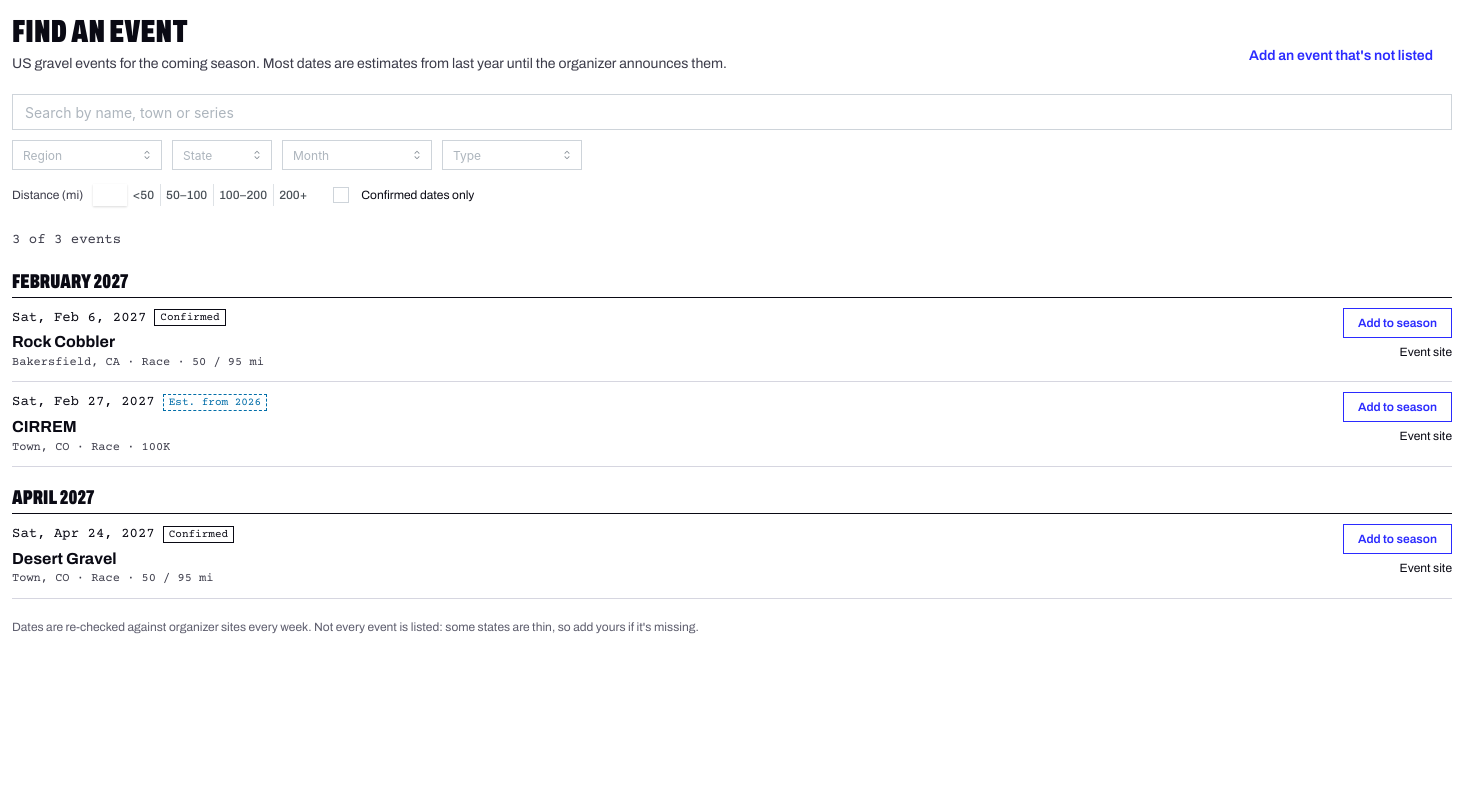
Test case: EventsTab › filters by search text
The image size is (1464, 810).
Expected: the text "Rock Cobbler" is shown, x1=12 y1=333 x2=115 y2=350
Type "bakersfield" into the field named "Search events" at (732, 112), box x1=12 y1=94 x2=1452 y2=130
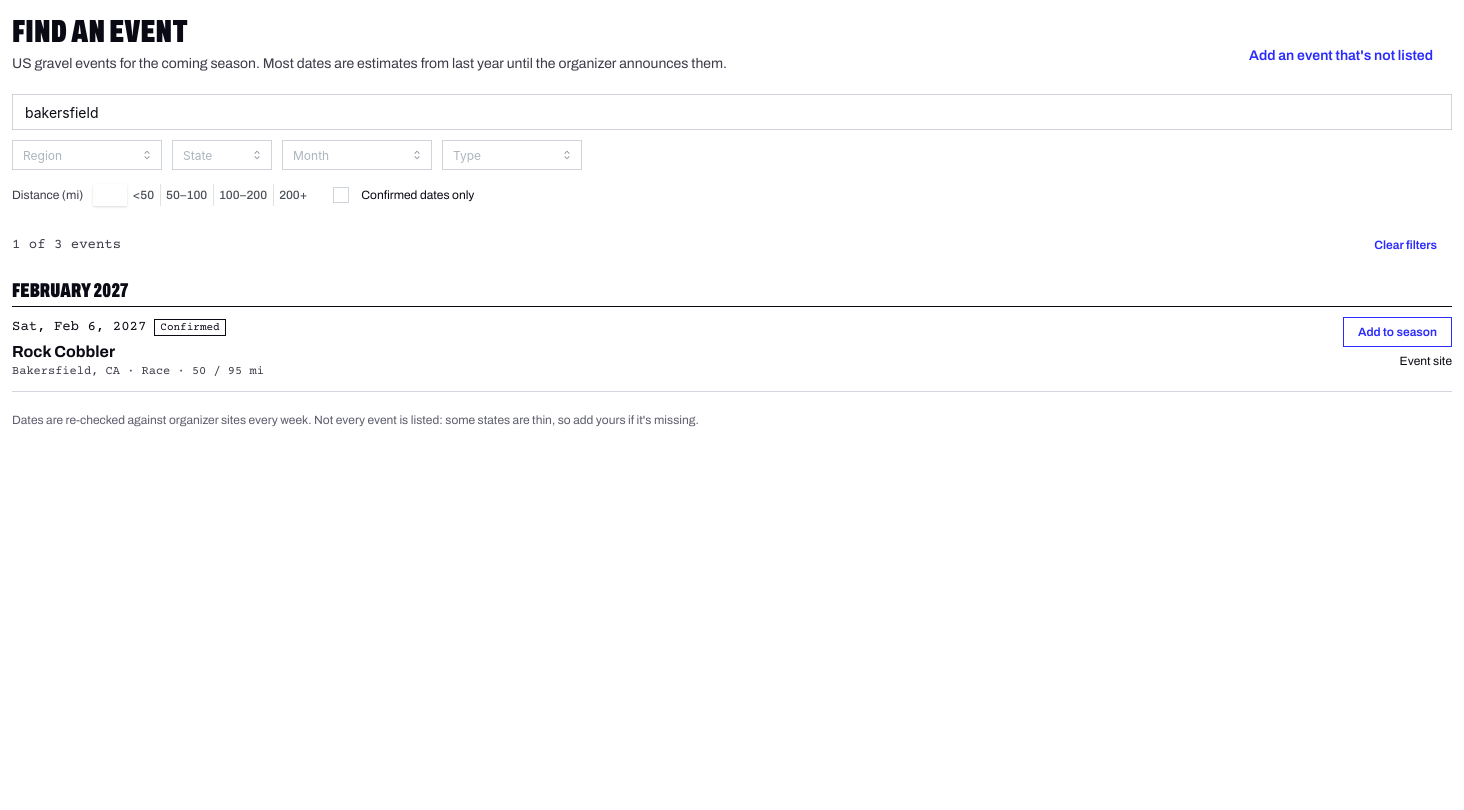
Result: the text "1 of 3 events" is shown at x1=12 y1=235 x2=121 y2=255
Result: the text "CIRREM" is gone
